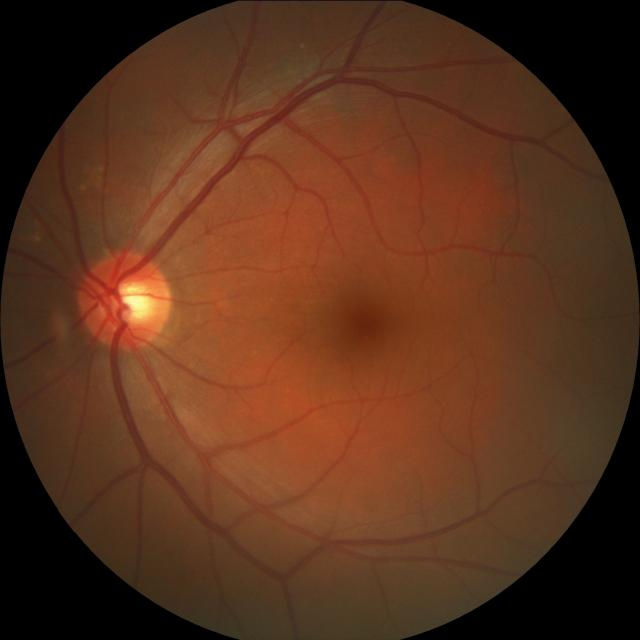OC: (110, 279, 155, 325)
OD: (80, 250, 175, 350)
